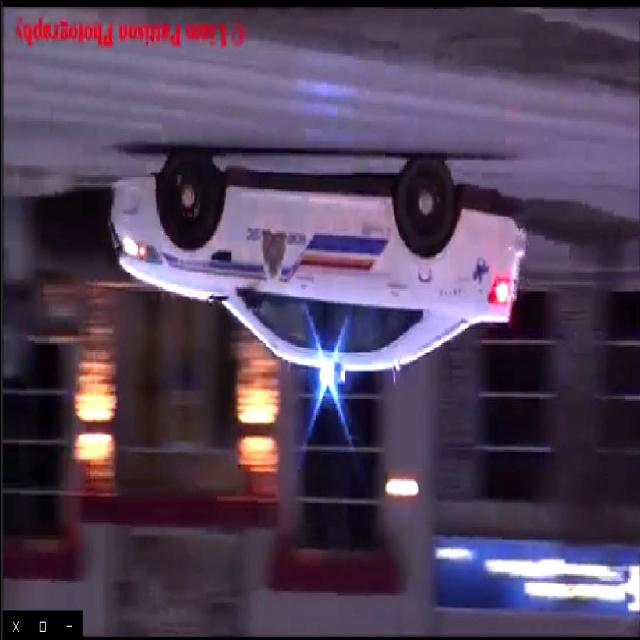emergency: (108, 161, 528, 401)
